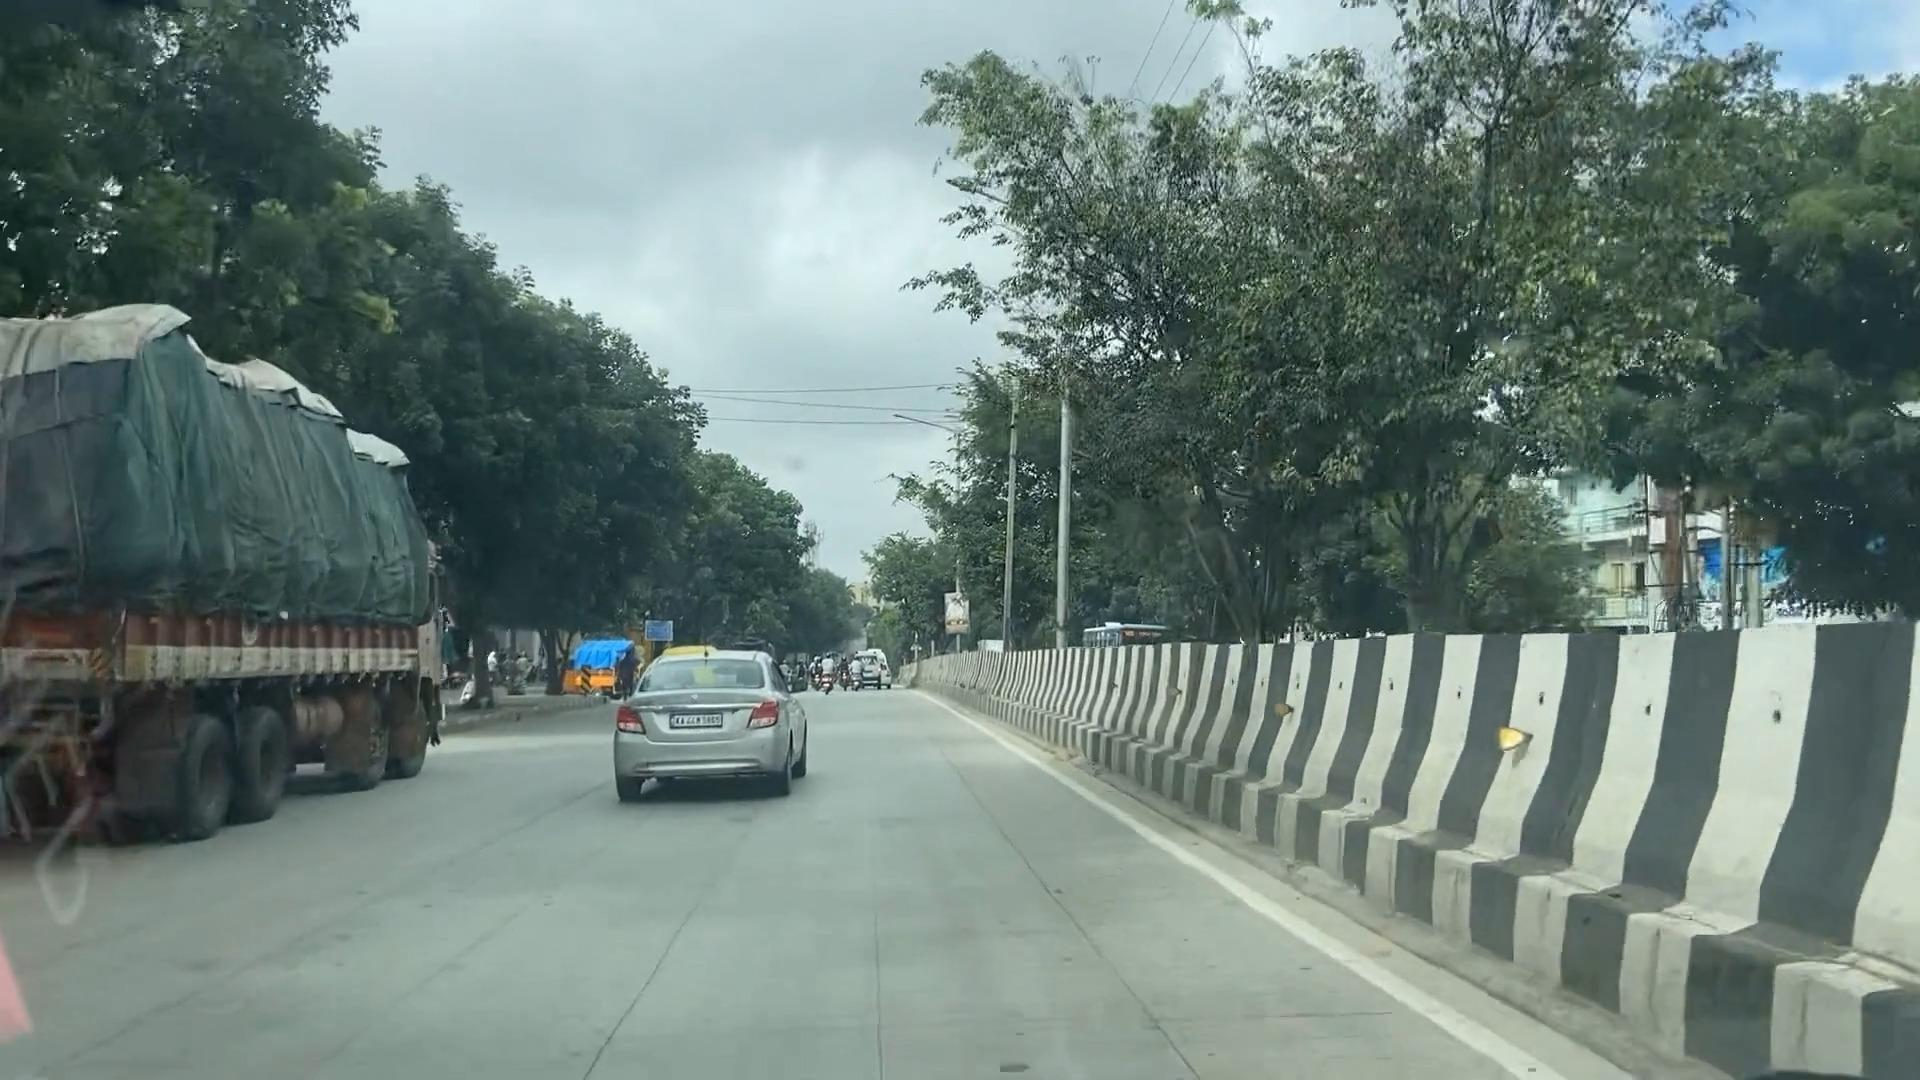HMV: (0, 326, 446, 835)
LMV: (600, 650, 803, 798)
